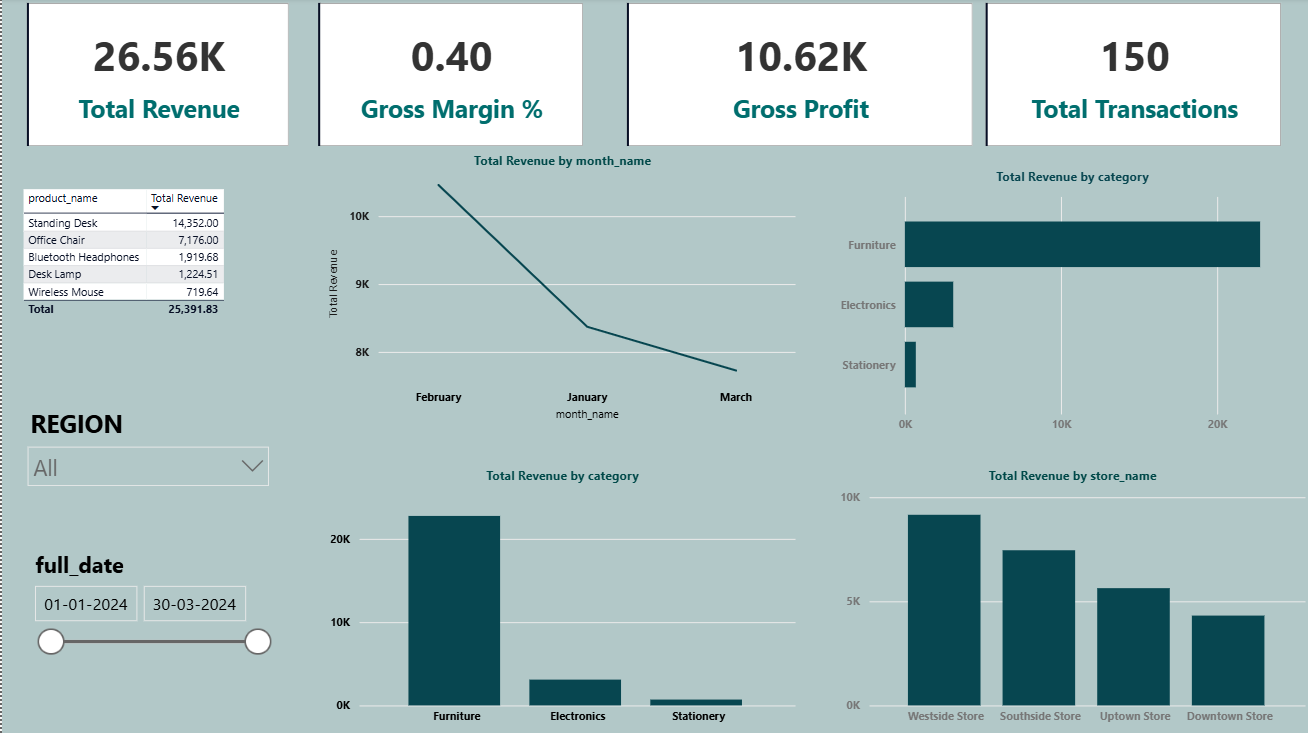

This screenshot's page, from the dashboard's own definition file:
{"tool":"powerbi","page":{"name":"Page 1","canvas":[1280,720],"ordinal":0},"visuals":[{"type":"cardVisual","fields":{"Data":["public fact_sales.Total Revenue"]},"box":[19.6,0,266.6,150.4],"z":0},{"type":"cardVisual","fields":{"Data":["public fact_sales.Gross Profit"]},"box":[606.5,0,348.5,150.4],"z":1000},{"type":"cardVisual","fields":{"Data":["public fact_sales.Gross Margin %"]},"box":[304.5,0,269,150.4],"z":2000},{"type":"cardVisual","fields":{"Data":["public dim_customer.Total Transactions"]},"box":[957.5,0,299.6,150.4],"z":3000},{"type":"slicer","fields":{"Values":["public dim_store.region"]},"box":[14.7,395,256.8,96.6],"z":4000},{"type":"slicer","fields":{"Values":["public dim_date.full_date"]},"box":[19.6,534.4,251.9,150.4],"z":5000},{"type":"lineChart","fields":{"Category":["public dim_date.month_name"],"Y":["public fact_sales.Total Revenue"]},"box":[315.5,150.4,465.9,267.8],"z":6000},{"type":"clusteredBarChart","fields":{"Category":["public dim_product.category"],"Y":["public fact_sales.Total Revenue"]},"box":[814.4,166.3,465.9,267.8],"z":7000},{"type":"columnChart","fields":{"Category":["public dim_product.category"],"Y":["public fact_sales.Total Revenue"]},"box":[315.5,458.6,465.9,261.7],"z":8000},{"type":"columnChart","fields":{"Category":["public dim_store.store_name"],"Y":["public fact_sales.Total Revenue"]},"box":[814.4,458.6,465.9,261.7],"z":9000},{"type":"tableEx","fields":{"Values":["public dim_product.product_name","public fact_sales.Total Revenue"]},"box":[14.7,182.2,251.9,188.3],"z":10000}]}

Visuals, with their boxes in screenshot pixels (x1, y1, x2, y2), scaled from the page's 1280x720 canvas onto the 1308x733 screenshot:
cardVisual - public fact_sales.Total Revenue: rect(20, 0, 292, 153)
cardVisual - public fact_sales.Gross Profit: rect(620, 0, 976, 153)
cardVisual - public fact_sales.Gross Margin %: rect(311, 0, 586, 153)
cardVisual - public dim_customer.Total Transactions: rect(978, 0, 1285, 153)
slicer - public dim_store.region: rect(15, 402, 277, 500)
slicer - public dim_date.full_date: rect(20, 544, 277, 697)
lineChart - public dim_date.month_name x public fact_sales.Total Revenue: rect(322, 153, 798, 426)
clusteredBarChart - public dim_product.category x public fact_sales.Total Revenue: rect(832, 169, 1307, 442)
columnChart - public dim_product.category x public fact_sales.Total Revenue: rect(322, 467, 798, 732)
columnChart - public dim_store.store_name x public fact_sales.Total Revenue: rect(832, 467, 1307, 732)
tableEx - public dim_product.product_name x public fact_sales.Total Revenue: rect(15, 185, 272, 377)
